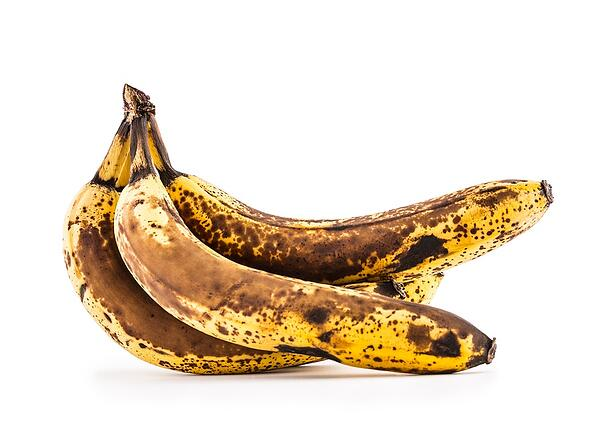looks_defective: (70, 64, 576, 397)
